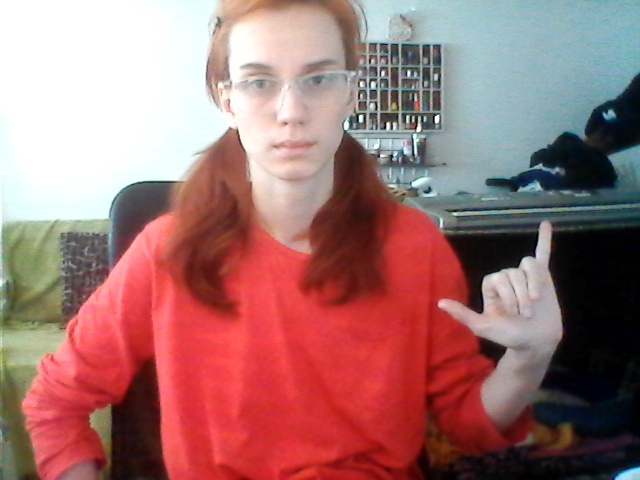kto: (430, 216, 572, 356)
